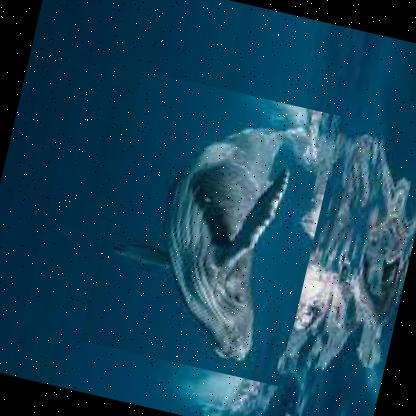blue_whale: (79, 70, 342, 387)
